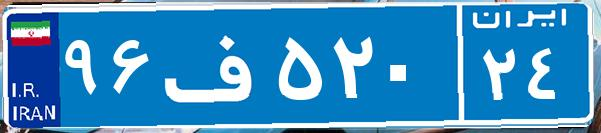0: (385, 28, 445, 110)
2: (330, 28, 385, 110), (475, 38, 525, 113)
4: (525, 38, 570, 115)
5: (273, 28, 330, 110)
6: (110, 28, 158, 105)
9: (57, 26, 110, 107)
ف: (158, 15, 273, 115)
